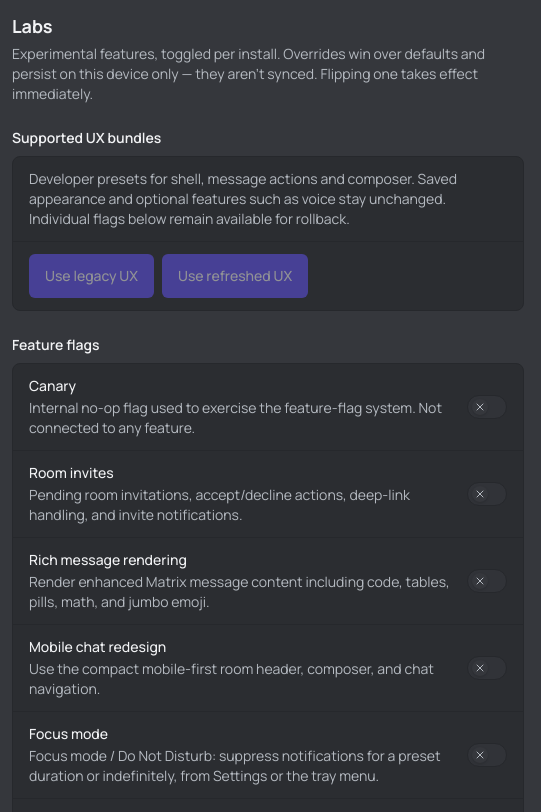
Test: LabsPanel › reset clears the override and reverts to the default
Click the switch named "Toggle Canary": coordinates (487, 407) [467,395,507,419]
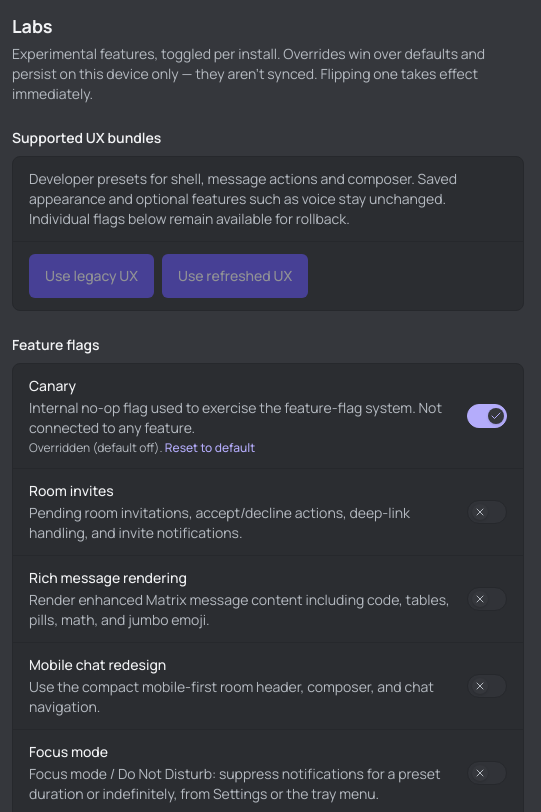
Now the switch named "Toggle Canary" is checked, box [467,404,507,428]
Now the button "Reset to default" is enabled
Click the button "Reset to default": coordinates (210, 448) [165,440,255,456]
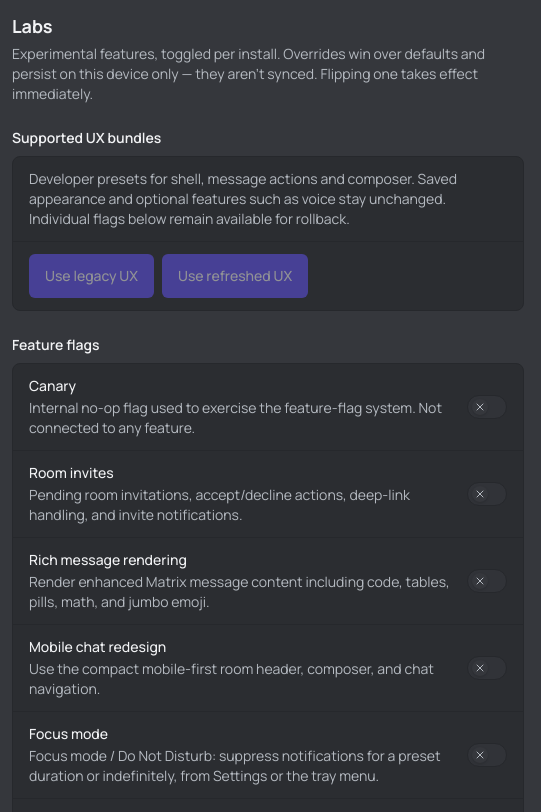
Now the switch named "Toggle Canary" is not checked, box [467,395,507,419]
Now the text "Overridden" is gone
